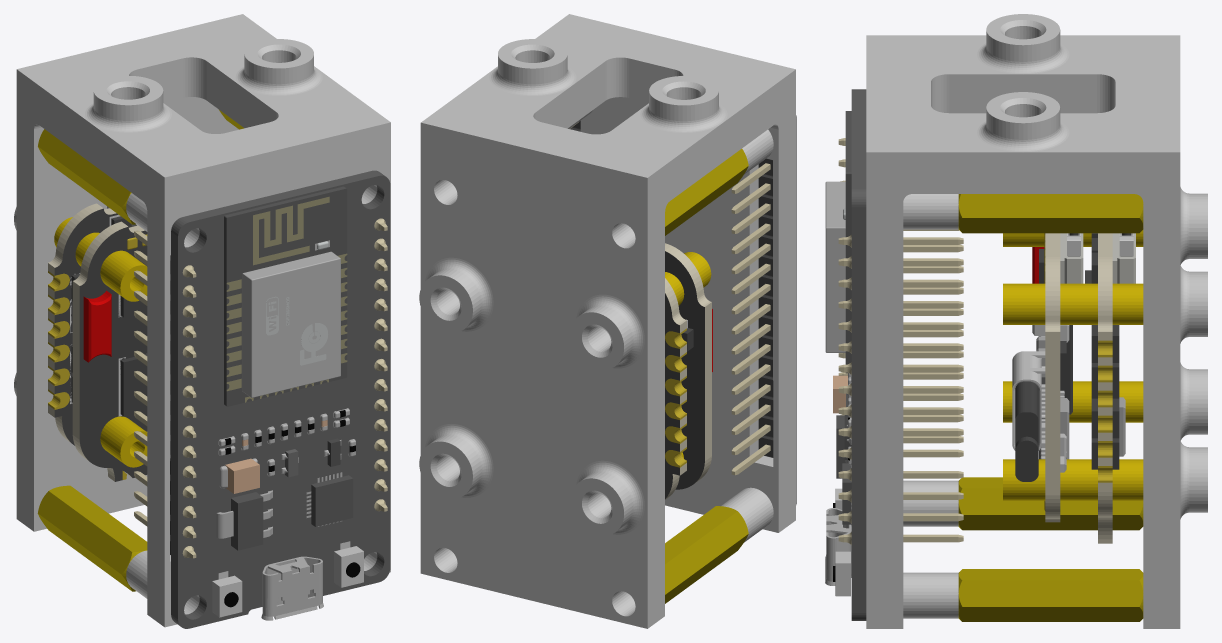
The model's file is electronics-mount.glb.
The picture shows the model from 3 angles, left to right: view 1: azimuth 30°, elevation 25°; view 2: azimuth 150°, elevation 25°; view 3: azimuth 270°, elevation 25°; orthographic projection. The views are drawn at different scales.
Parts seen in each view (by area): view 1: empty_2; view 2: empty_2; view 3: empty_2.
Part boxes in pixels (<box>): empty_2: <box>14,14,390,628</box>; empty_2: <box>419,14,796,628</box>; empty_2: <box>825,14,1207,628</box>.
Size of the model in its own units: 38.69 by 60.05 by 41.47.
